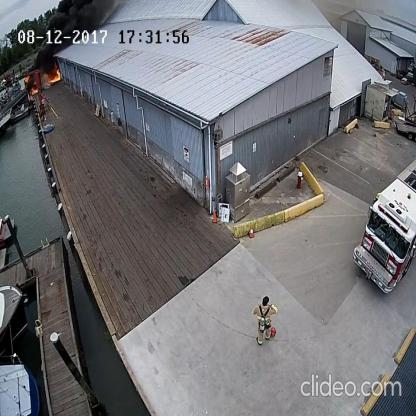fire: (23, 74, 39, 98), (44, 69, 64, 86)
